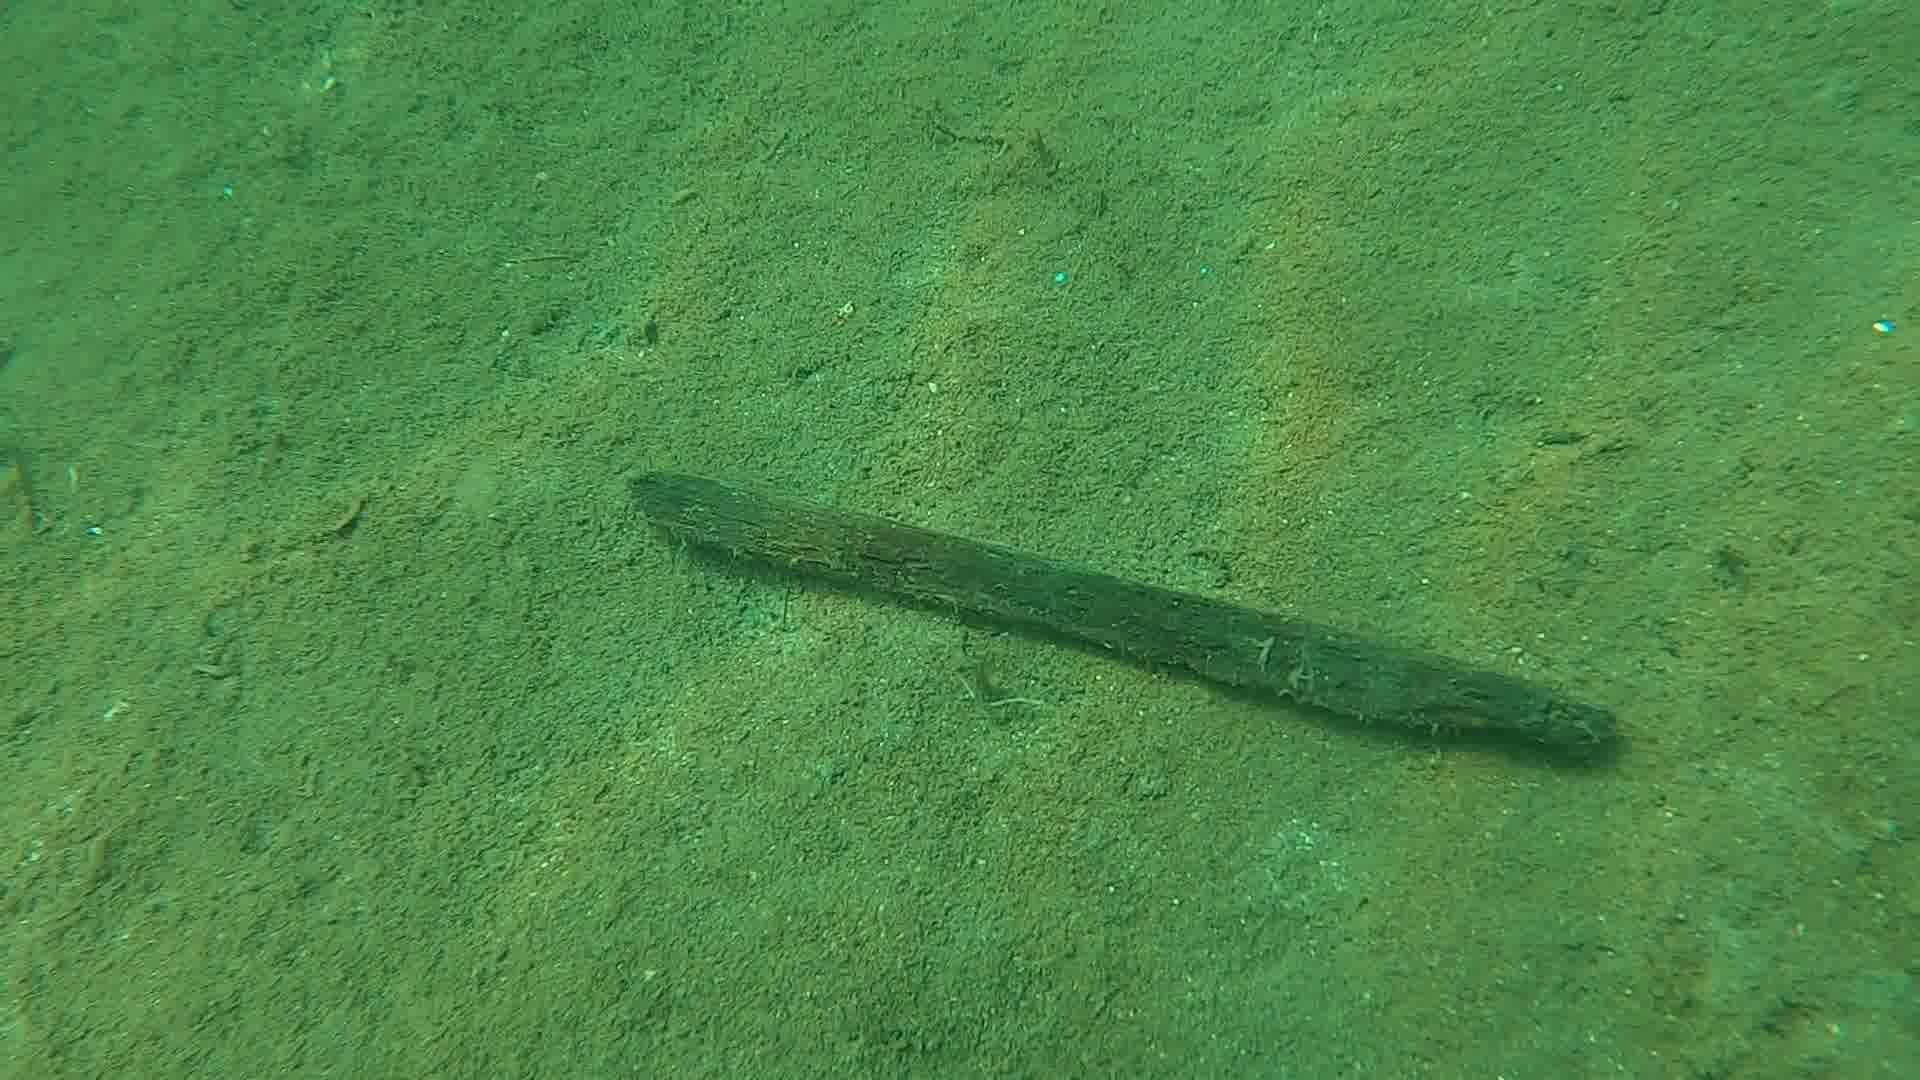wood: (622, 465, 1617, 760)
